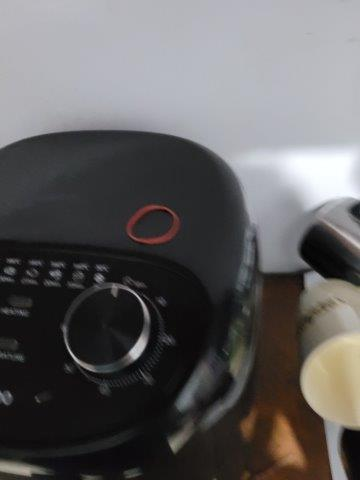karet: (126, 204, 181, 244)
